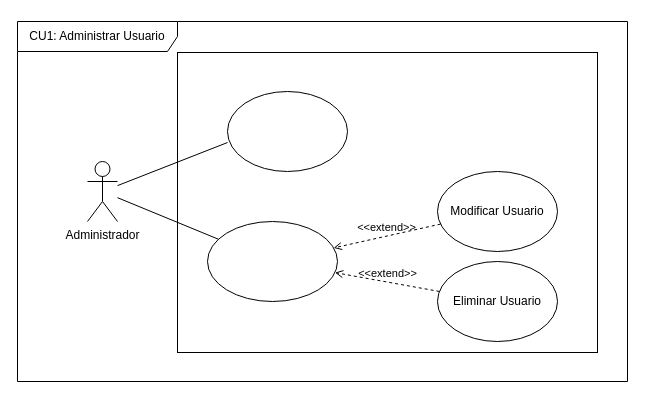
The diagram is 645 pixels wide and 399 high, and some of its shapes have lost their labels. The shapes that lost their labels are listed below. From the top down, each one's box as (x1, y1, x2, y2) in pixels, then its label:
(226, 90, 348, 172): Agregar Usuario
(206, 220, 338, 302): Buscar Usuario
